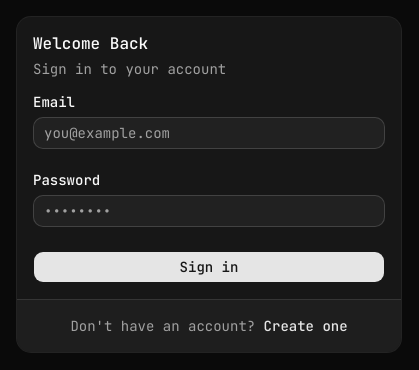
Test case: LoginPage › disables submit button while request is in flight
Type "test@example.com" into the field labelled "Email" at (209, 132), box x1=33 y1=116 x2=385 y2=148
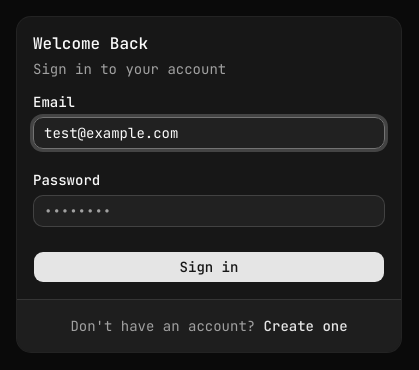
Type "password123" into the password field labelled "Password" at (209, 210), box x1=33 y1=194 x2=385 y2=226
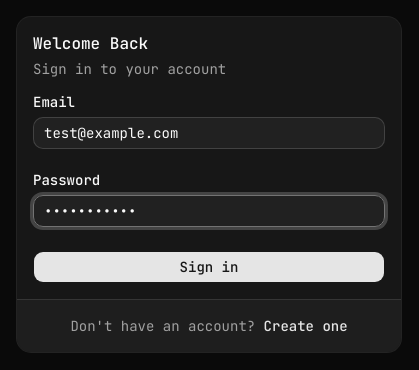
Click the button "Sign in" at (209, 266), box x1=33 y1=250 x2=385 y2=282
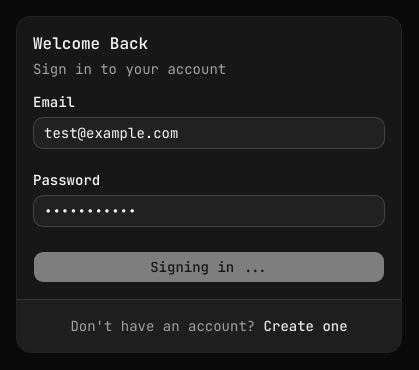
Now the button "Signing in ..." is disabled, box x1=33 y1=250 x2=385 y2=282
